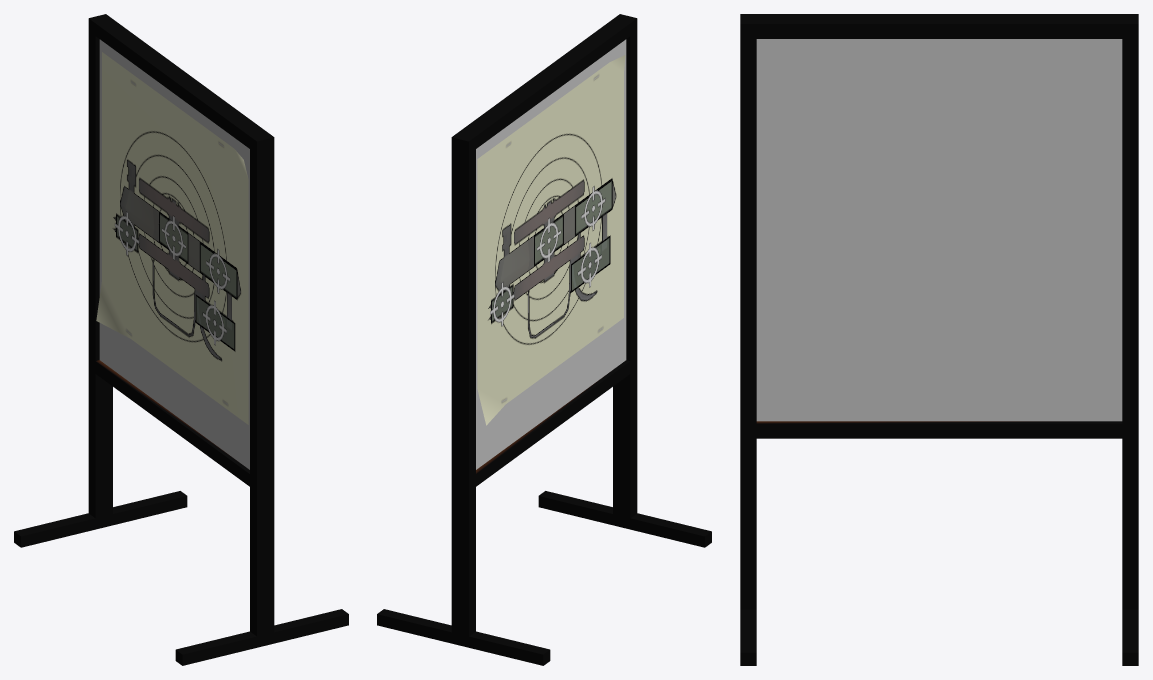
Rendered from PaperTarget.fbx.
The picture shows the model from 3 angles, left to right: view 1: azimuth 30°, elevation 25°; view 2: azimuth 150°, elevation 25°; view 3: azimuth 270°, elevation 25°; orthographic projection. The views are drawn at different scales.
Parts seen in each view (by area): view 1: pCube47, pPlane1; view 2: pCube47, pPlane1; view 3: pCube47.
Boxes of the visible parts, box(x1,y1,x2,y2) form: pCube47: box(14, 14, 348, 665); pPlane1: box(96, 52, 248, 424); pCube47: box(377, 14, 711, 665); pPlane1: box(477, 55, 625, 425); pCube47: box(740, 14, 1138, 665).
Bounding box in the file's own units: 0.7438 × 2.16 × 1.3.
